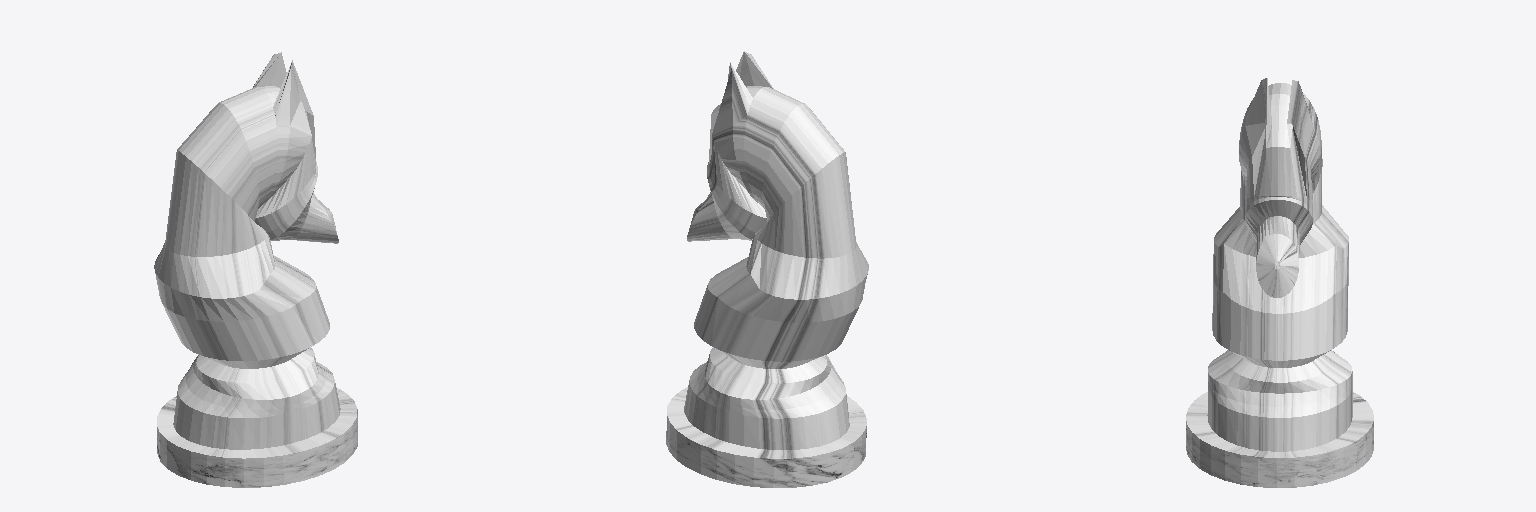
The picture shows the model from 3 angles: view 1: azimuth 30°, elevation 25°; view 2: azimuth 150°, elevation 25°; view 3: azimuth 270°, elevation 25°; orthographic projection.
Parts seen in each view (by area): view 1: Cylinder; view 2: Cylinder; view 3: Cylinder.
Part boxes in pixels (x1,y1,x2,y2): Cylinder: (154,52,357,487); Cylinder: (666,51,868,487); Cylinder: (1186,78,1373,487).
Bounding box in the file's own units: 2.02 × 4.12 × 1.82.
Materials: 1 (1 with a texture image).